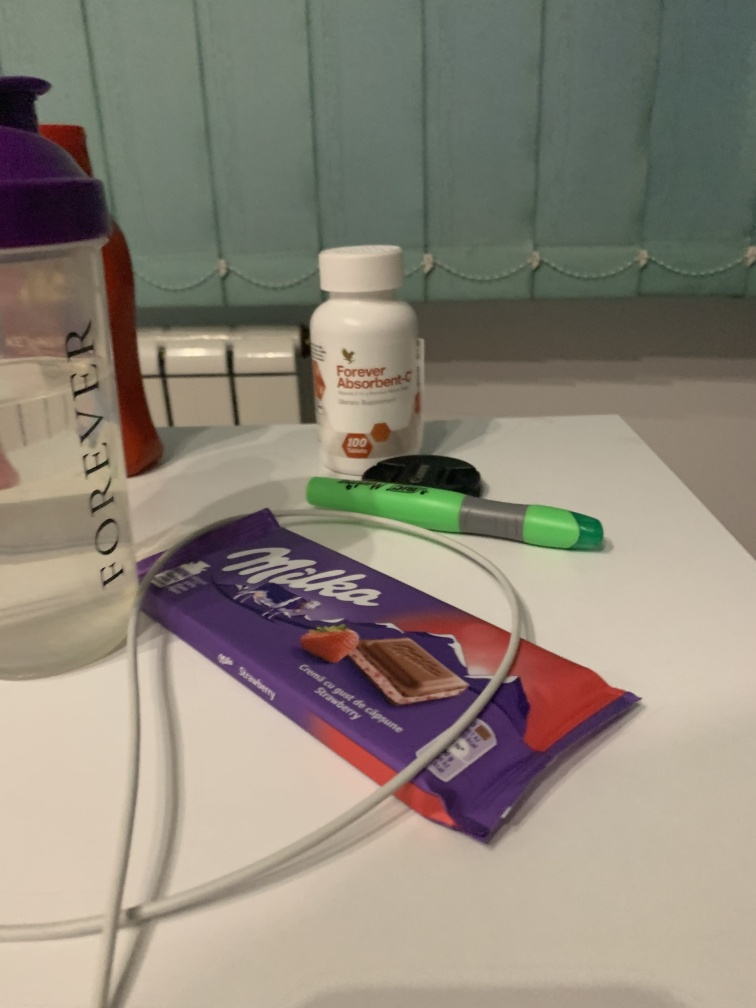milka: (111, 503, 667, 870)
